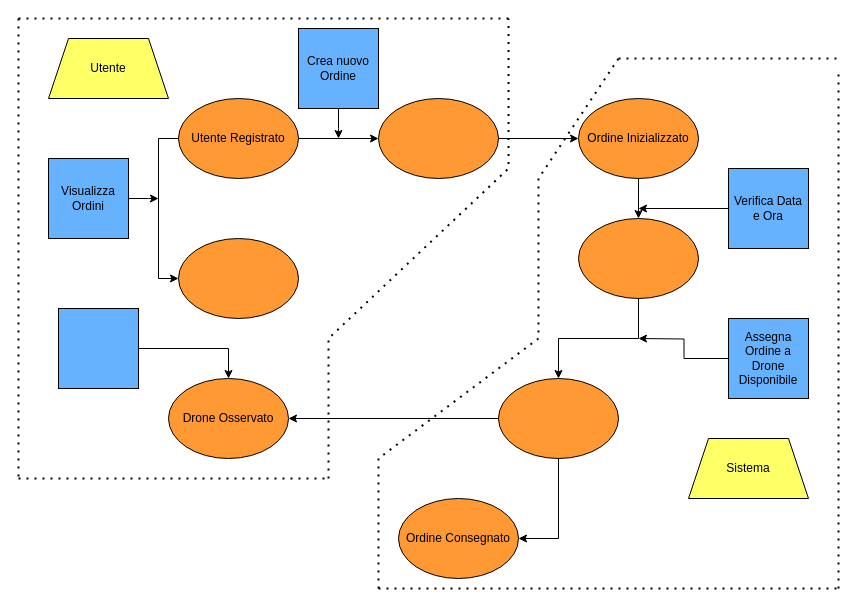
Image size: 857x607. Some labels were removed from this diagram. Here are the shapes that lost their labels. From the top down, the centre of each, then its label:
At (438,138): "Ordine Compilato".
At (238,278): "Ordini Visualizzati".
At (638,258): "Ordine Lanciato".
At (98,348): "Osserva Stato Consegna".
At (558,418): "Drone Partito".
